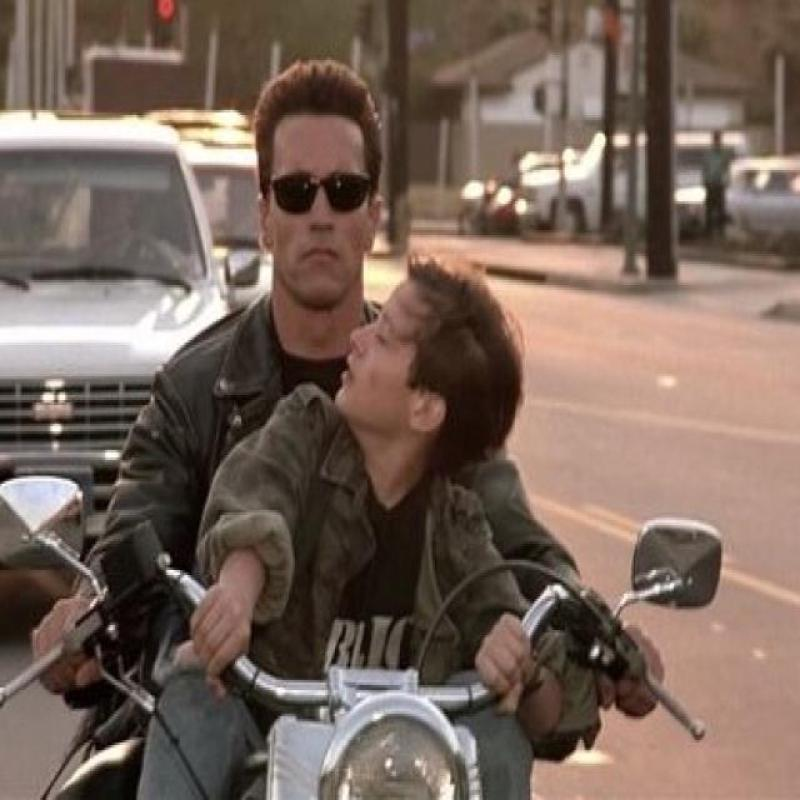nohelmet: (239, 66, 394, 292), (323, 264, 501, 452)
